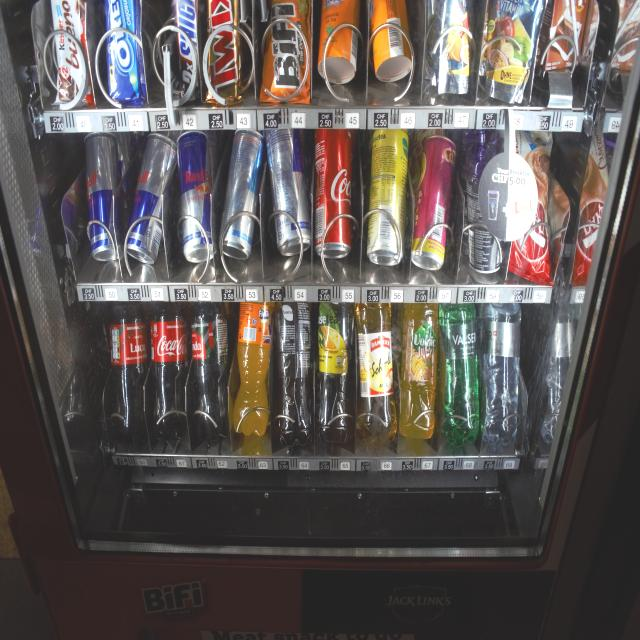7days_croissantschoko_packung_80_1_0000000000003: (512, 134, 556, 284)
bifi_roll__50__4251097402635: (260, 0, 310, 104)
bueno___43__4008400320328: (49, 0, 95, 108)
caferoyal_classicmacchiato__33__7617014164487: (464, 134, 506, 274)
caprisun_multivitamin__20__4000177605004: (479, 0, 543, 97), (425, 0, 479, 99)
coke__flasche_50__54491472: (147, 308, 196, 436), (105, 301, 147, 439), (314, 125, 356, 258)
coke_zero_flasche_50__5449000131836: (192, 306, 228, 438)
fanta___50__40822938: (232, 299, 274, 440)
fuse_lemon__50__5449000235947: (315, 296, 352, 449)
fuse_lemon_dose_33__5449000235947: (367, 123, 408, 262)
oreo___66__84100733: (103, 0, 147, 104)
ramseier_schorle__50__7610057012456: (354, 300, 398, 453)
redbull___33__90162909: (174, 130, 220, 262), (81, 134, 126, 258), (133, 134, 175, 265)
redbull_light__33__90162800: (221, 131, 266, 261)
tiki_himbeerbrause_dose_33_1_: (417, 136, 453, 271)
twix___50__5000159459228: (203, 0, 239, 104)
valser_classic__50__76404160: (437, 303, 484, 441)
valser_still__50__7610335002575: (481, 303, 524, 449)
volvic_pinapple__50__305764335648: (401, 298, 437, 448)
